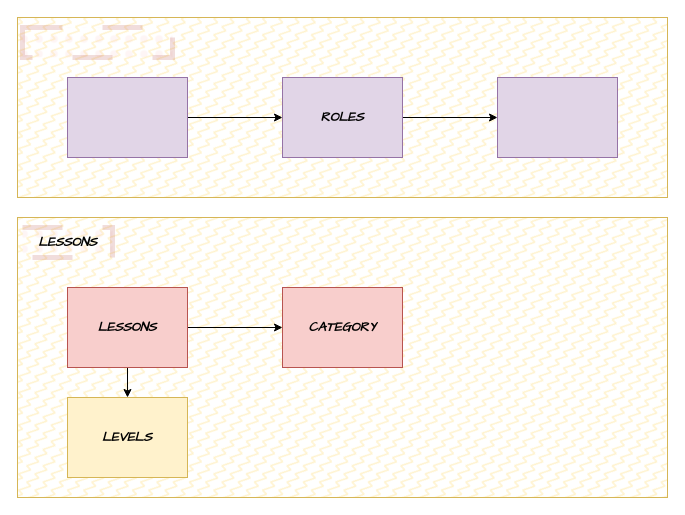
Image size: 685x515. Some labels were removed from this diagram. Here are the shapes that lost their labels. From the top down, the centre of each, then its label:
the point at 97,42: USERS AND ROLES
the point at 127,117: USERS
the point at 557,117: PERMISSIONS
